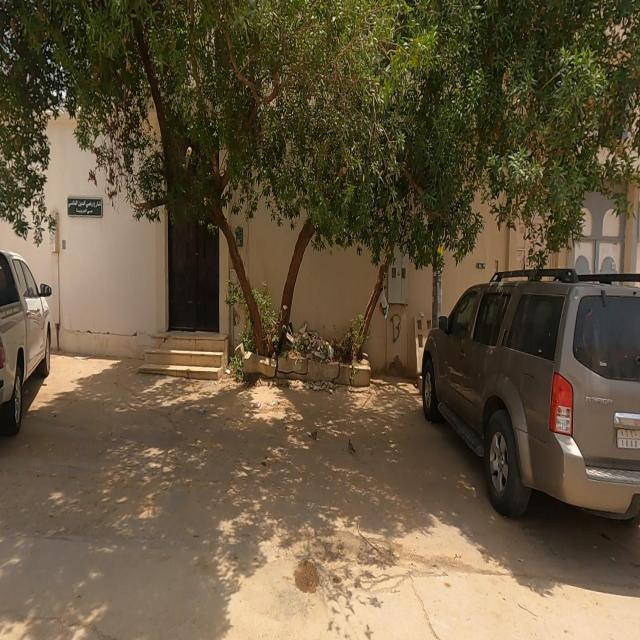Graffiti: (388, 314, 405, 345)
